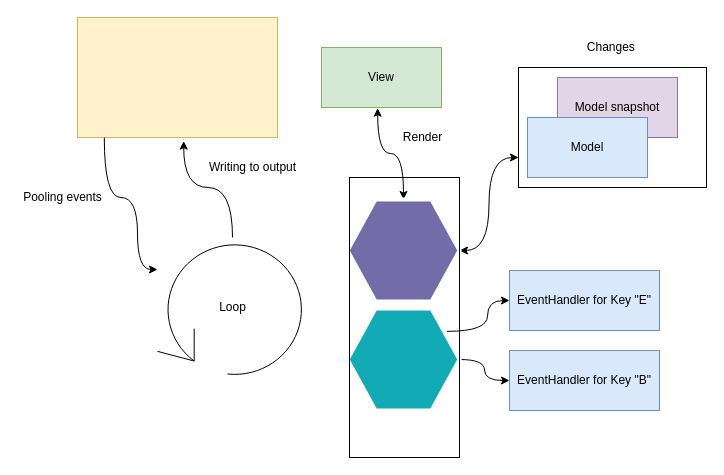
Some shapes in this 724 by 475 pixel diagram are drawn without their labels. The box of each missing label's shape, as (x1, y1, x2, y2) in pixels:
Are there any key pressed?: (345, 306, 461, 412)
Console: (76, 16, 278, 138)
Has model changed?: (345, 197, 461, 303)
